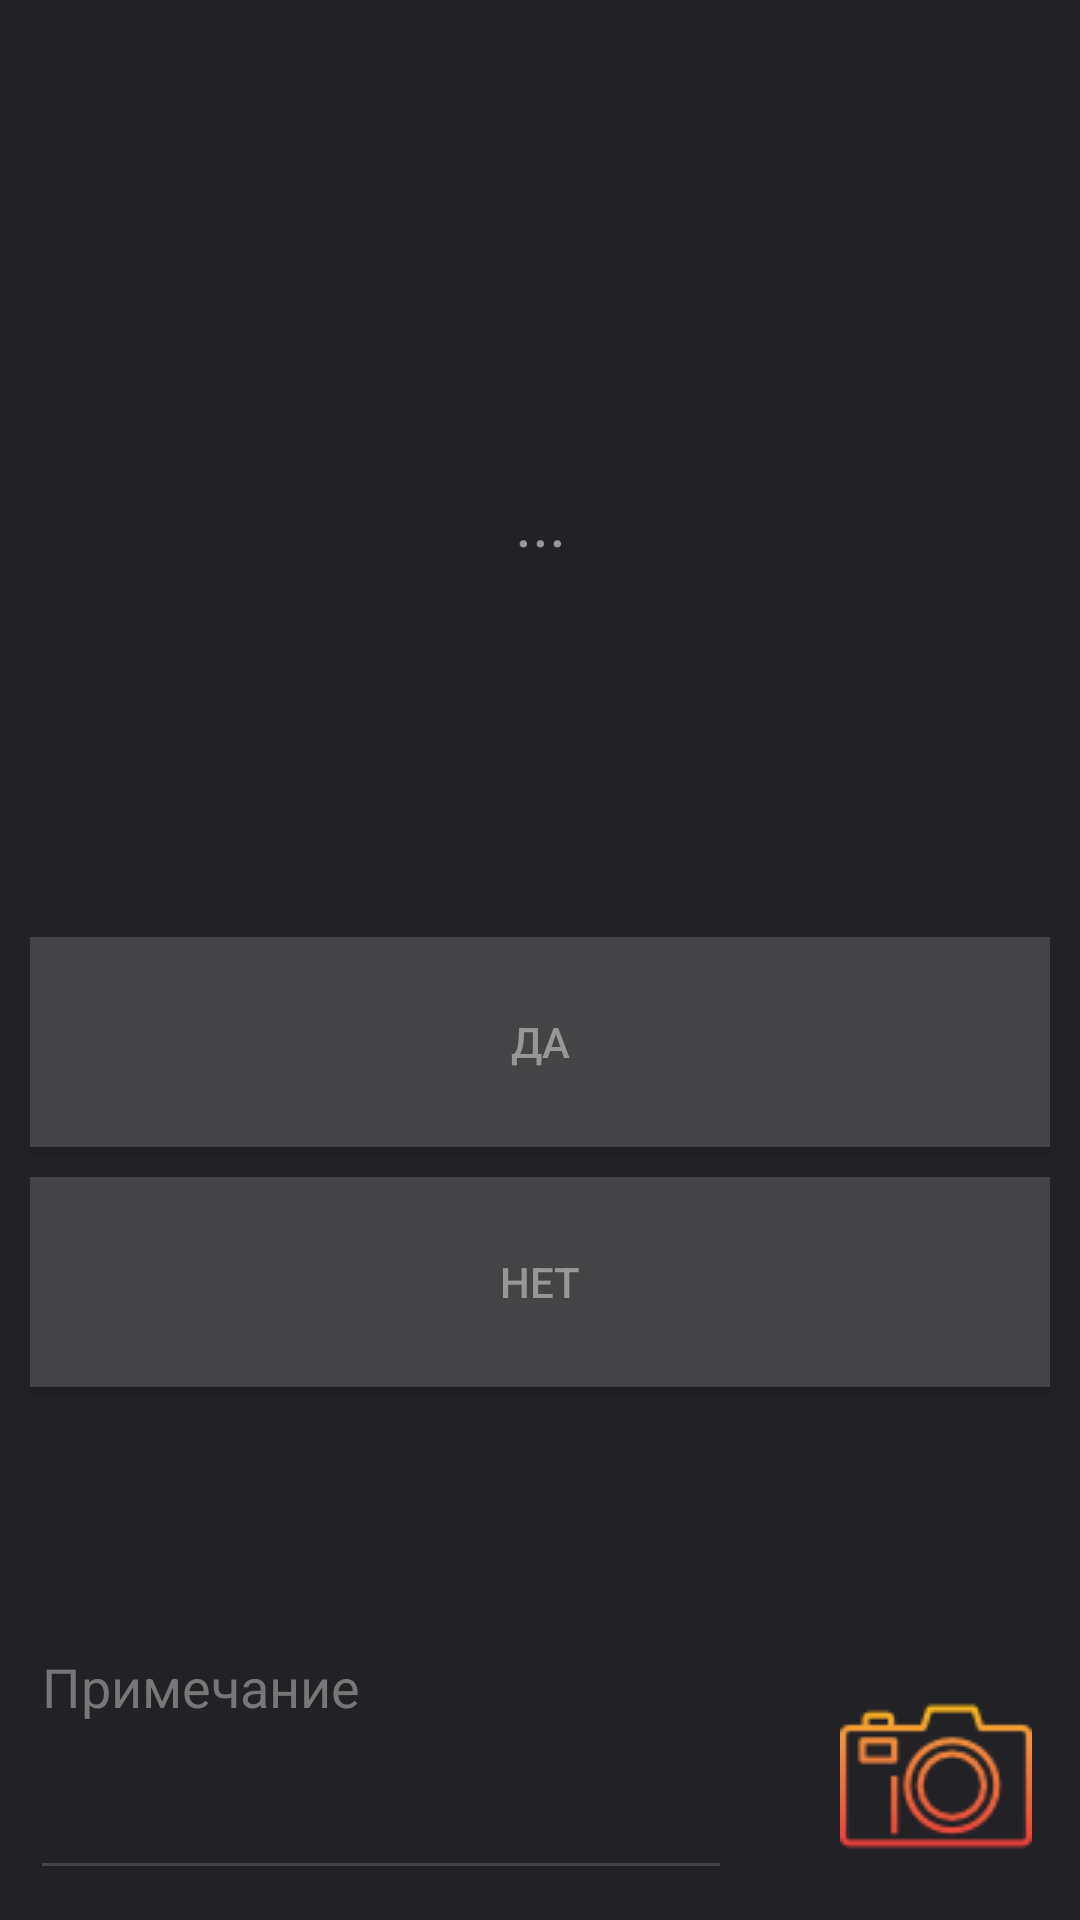

Named icons in this screenshot (1080px×1920px) and their bounding boxes, box(x1, y1, x2, y2):
camera gold: box(840, 1703, 1032, 1849)
